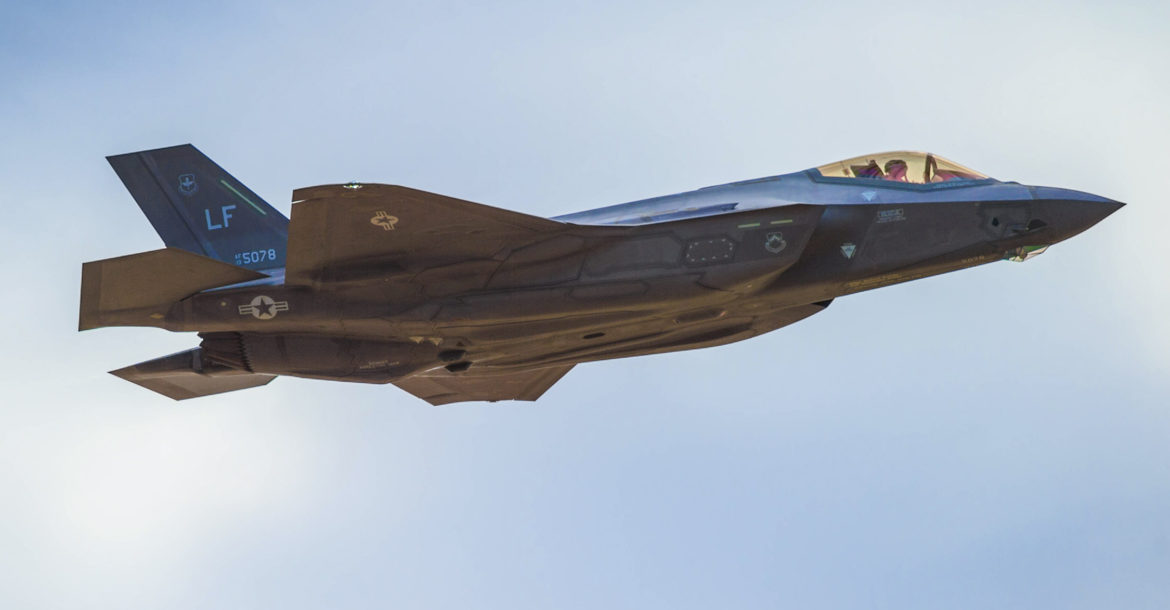F-35 Lightning: (38, 92, 1142, 420)
